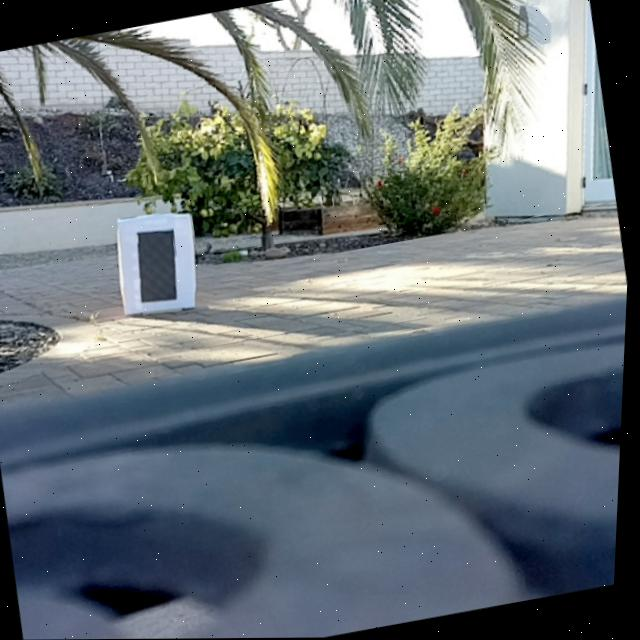led: (131, 223, 188, 307)
